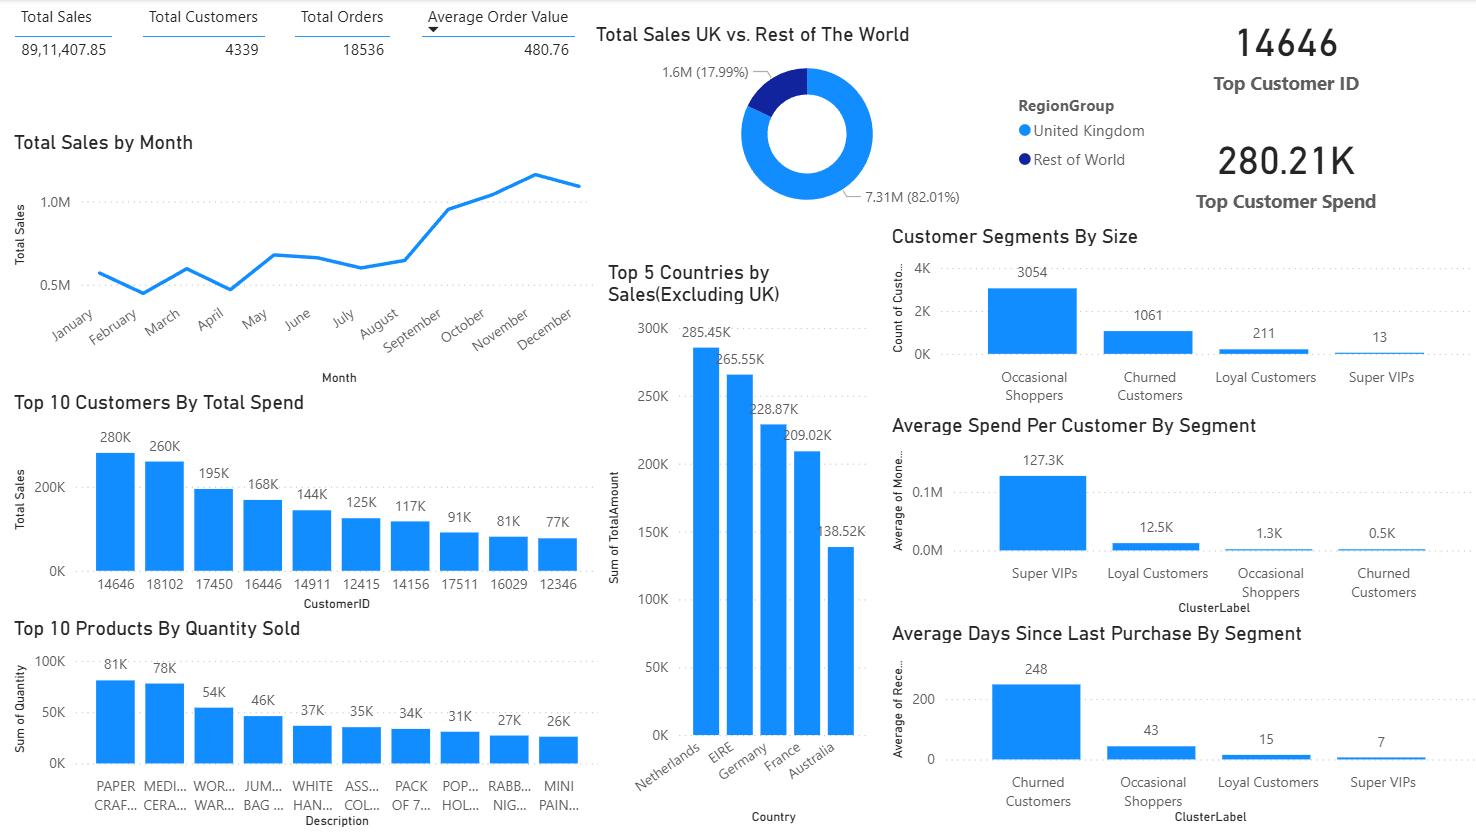

What the dashboard file says about the page in this screenshot:
{"tool":"powerbi","page":{"name":"Page 1","canvas":[1280,720],"ordinal":0},"visuals":[{"type":"tableEx","fields":{"Values":["OnlineRetail.Total Sales"]},"box":[9.7,0,109.9,75.9],"z":0},{"type":"tableEx","fields":{"Values":["OnlineRetail.Total Customers"]},"box":[119.6,0,131.3,75.9],"z":1},{"type":"tableEx","fields":{"Values":["OnlineRetail.Total Orders"]},"box":[250.9,0,109.9,75.9],"z":2},{"type":"tableEx","fields":{"Values":["OnlineRetail.Average Order Value"]},"box":[360.9,0,161.5,75.9],"z":3},{"type":"lineChart","fields":{"Category":["OnlineRetail.InvoiceDate.Variation.Date Hierarchy.Month"],"Y":["OnlineRetail.Total Sales"]},"box":[9.7,112.8,512.6,224.7],"z":4},{"type":"clusteredColumnChart","title":"Top 10 Customers By Total Spend","fields":{"Y":["OnlineRetail.Total Sales"],"Category":["OnlineRetail.CustomerID"]},"box":[9.5,337.3,513.2,194.9],"z":5},{"type":"clusteredColumnChart","title":"Top 10 Products By Quantity Sold","fields":{"Category":["OnlineRetail.Description"],"Y":["Sum(OnlineRetail.Quantity)"]},"box":[9.5,532.2,514.1,187.2],"z":6},{"type":"donutChart","title":"Total Sales UK vs. Rest of The World","fields":{"Y":["Sum(OnlineRetail.TotalAmount)"],"Category":["OnlineRetail.RegionGroup"]},"box":[511.5,19.8,400.2,174.2],"z":7},{"type":"clusteredColumnChart","title":"Top 5 Countries by Sales(Excluding UK)","fields":{"Category":["OnlineRetail.Country"],"Y":["Sum(OnlineRetail.TotalAmount)"]},"box":[521.8,225.1,234.6,490.8],"z":8},{"type":"clusteredColumnChart","title":"Customer Segments By Size","fields":{"Category":["RFM_Clusters.ClusterLabel"],"Y":["Count(RFM_Clusters.CustomerID)"]},"box":[766.8,194.1,512.3,163],"z":9},{"type":"clusteredColumnChart","title":"Average Spend Per Customer By Segment","fields":{"Category":["RFM_Clusters.ClusterLabel"],"Y":["Avg(RFM_Clusters.Monetary)"]},"box":[766.8,357.1,512.3,178.5],"z":10},{"type":"clusteredColumnChart","title":"Average Days Since Last Purchase By Segment","fields":{"Category":["RFM_Clusters.ClusterLabel"],"Y":["Avg(RFM_Clusters.Recency)"]},"box":[766.8,536.5,513.2,179.4],"z":11},{"type":"card","fields":{"Values":["OnlineRetail.Top Customer Spend"]},"box":[1015.2,100.1,210.5,107],"z":12},{"type":"card","box":[100,100,300,300],"z":13},{"type":"card","fields":{"Values":["OnlineRetail.Top Customer ID"]},"box":[1015.2,0,193.2,106.1],"z":14}]}

Visuals, with their boxes in screenshot pixels (x1, y1, x2, y2), scaled from the page's 1280x720 canvas onto the 1476x832 screenshot:
tableEx - OnlineRetail.Total Sales: l=11, t=0, r=138, b=88
tableEx - OnlineRetail.Total Customers: l=138, t=0, r=289, b=88
tableEx - OnlineRetail.Total Orders: l=289, t=0, r=416, b=88
tableEx - OnlineRetail.Average Order Value: l=416, t=0, r=602, b=88
lineChart - OnlineRetail.InvoiceDate.Variation.Date Hierarchy.Month x OnlineRetail.Total Sales: l=11, t=130, r=602, b=390
"Top 10 Customers By Total Spend" clusteredColumnChart: l=11, t=390, r=603, b=615
"Top 10 Products By Quantity Sold" clusteredColumnChart: l=11, t=615, r=604, b=831
"Total Sales UK vs. Rest of The World" donutChart: l=590, t=23, r=1051, b=224
"Top 5 Countries by Sales(Excluding UK)" clusteredColumnChart: l=602, t=260, r=872, b=827
"Customer Segments By Size" clusteredColumnChart: l=884, t=224, r=1475, b=413
"Average Spend Per Customer By Segment" clusteredColumnChart: l=884, t=413, r=1475, b=619
"Average Days Since Last Purchase By Segment" clusteredColumnChart: l=884, t=620, r=1475, b=827
card - OnlineRetail.Top Customer Spend: l=1171, t=116, r=1413, b=239
card: l=115, t=116, r=461, b=462
card - OnlineRetail.Top Customer ID: l=1171, t=0, r=1393, b=123
